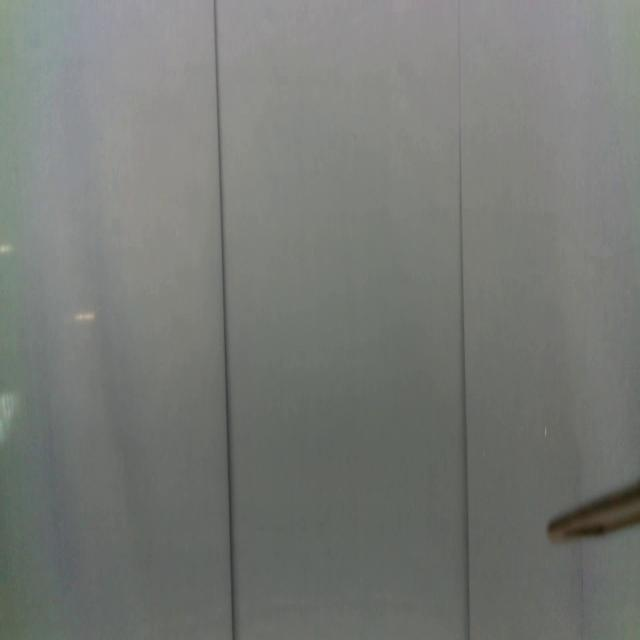crease: (214, 0, 236, 639), (455, 0, 473, 640)
hole: (543, 423, 548, 440)
